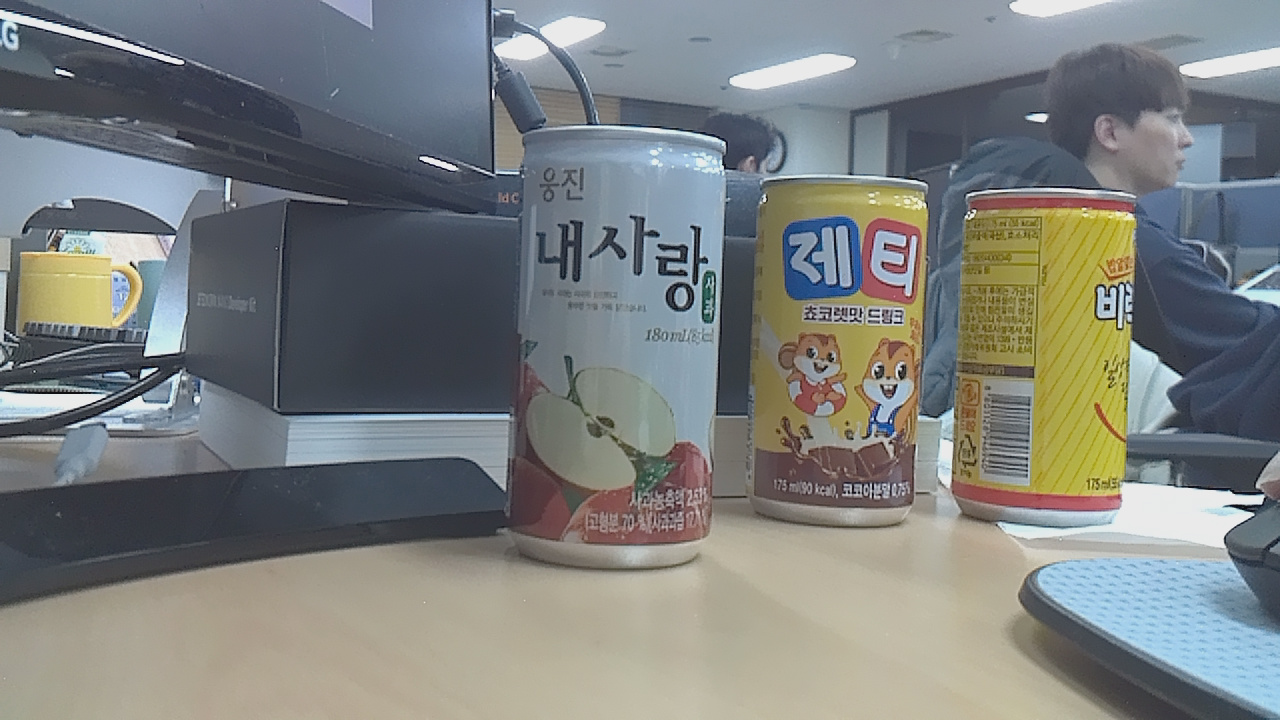jetty: (763, 182, 949, 558)
mylove apple: (512, 129, 737, 580)
paldo shikhye: (961, 190, 1157, 537)
